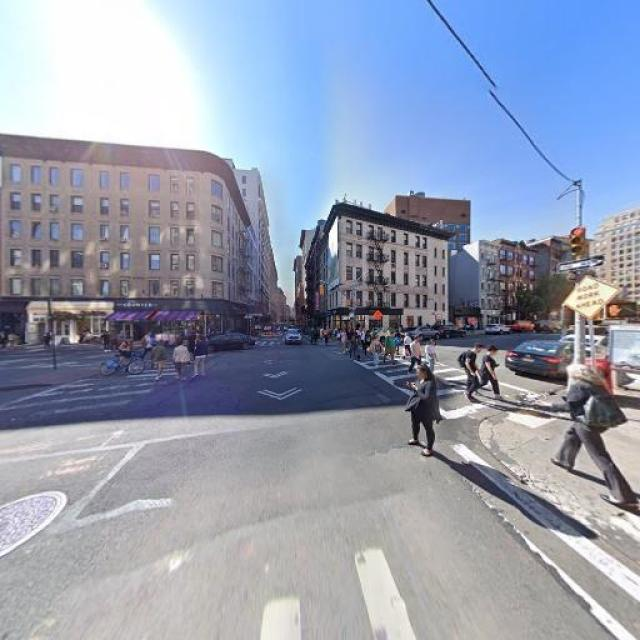Building: (4, 136, 250, 342), (330, 207, 445, 338)
